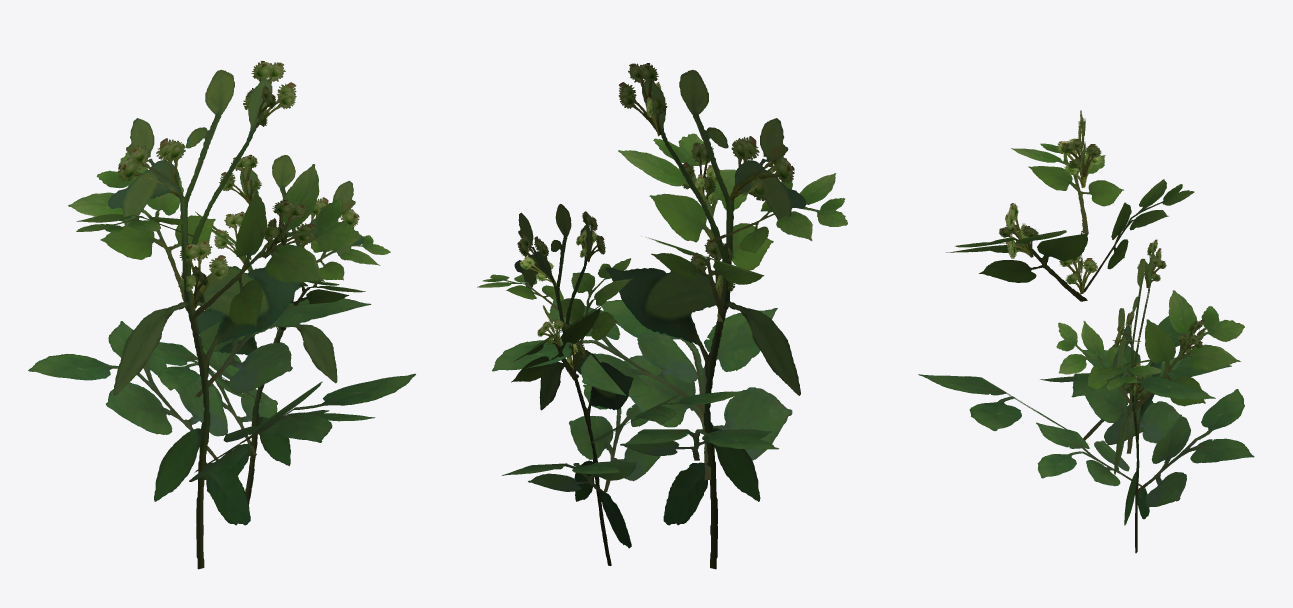
Rendered from Dingqingchuan_wujian_13.FBX.
3 views of the same model, side by side, from view 1: azimuth 30°, elevation 25°; view 2: azimuth 150°, elevation 25°; view 3: azimuth 270°, elevation 25° (orthographic). The views are drawn at different scales.
Visible parts, largest first — view 1: Plane390; view 2: Plane390; view 3: Plane390.
Part boxes in pixels (x1=…): Plane390: x1=28, y1=61, x2=415, y2=569; Plane390: x1=477, y1=63, x2=847, y2=569; Plane390: x1=918, y1=110, x2=1254, y2=553.
Bounding box in the file's own units: 4.42 × 6.46 × 4.83.
